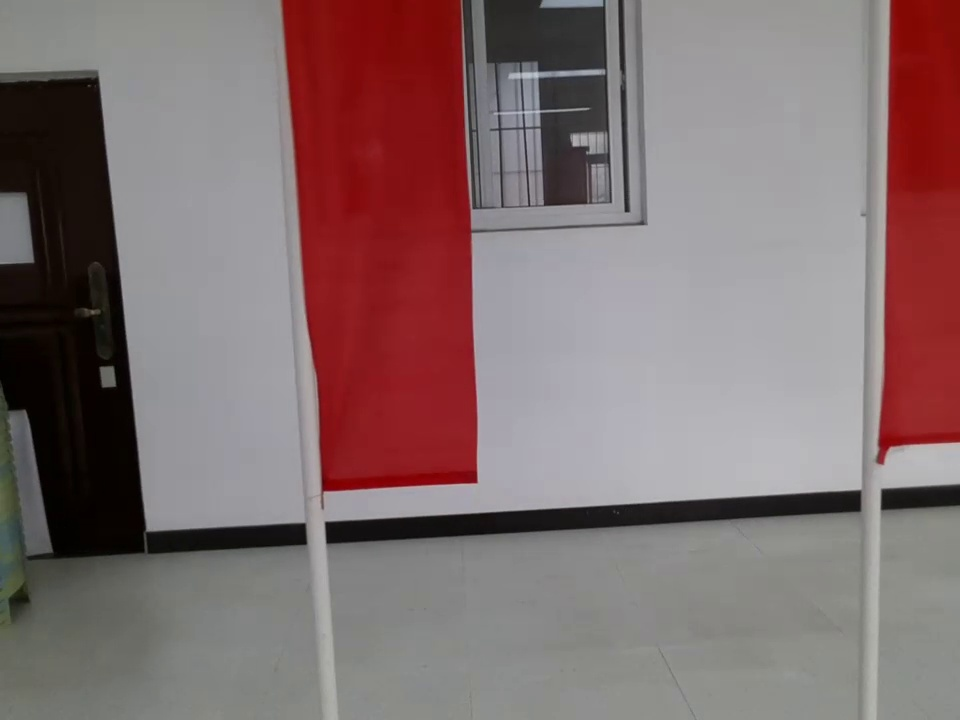qi: (262, 1, 496, 495), (847, 2, 960, 492)
